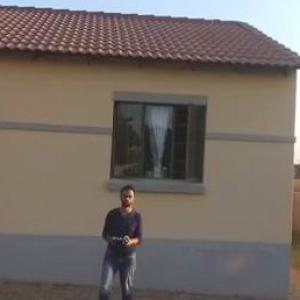follow: (87, 179, 146, 299)
